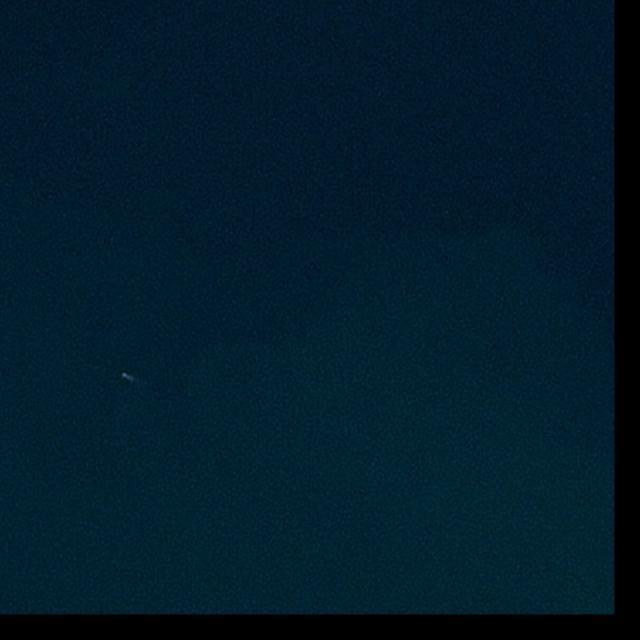ship: (122, 373, 127, 377)
